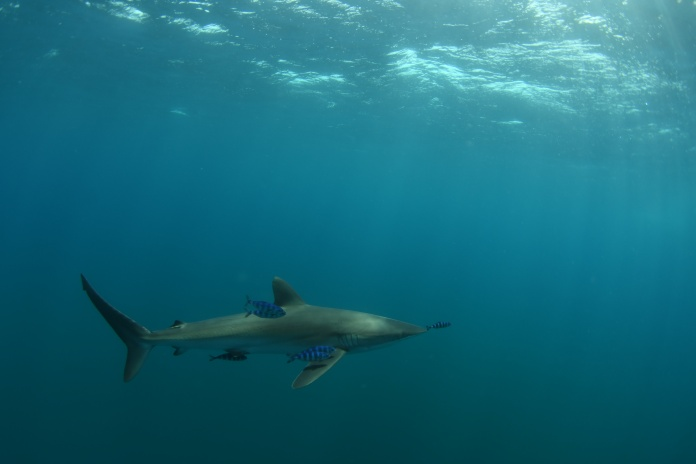Mako: (71, 263, 438, 403)
